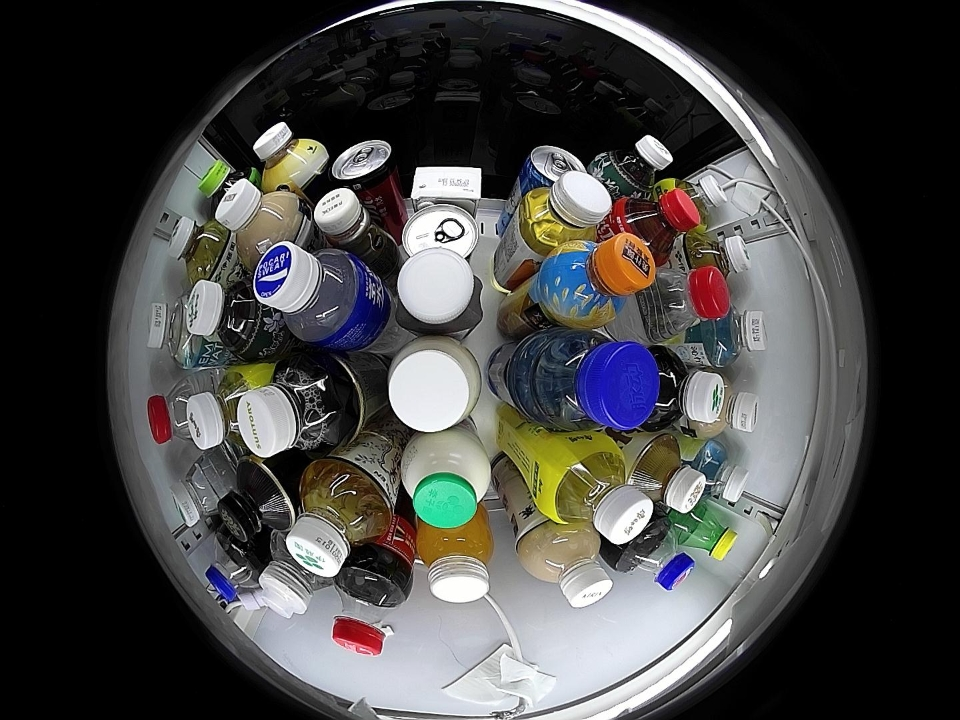asamu: (253, 121, 325, 189)
baicha: (286, 459, 394, 578), (167, 217, 235, 282), (685, 232, 752, 282)
baishikele-2: (616, 518, 694, 592), (205, 535, 265, 602)
baokuangli: (253, 242, 373, 348)
binghongcha: (613, 187, 701, 261)
bingtangxueli: (540, 437, 654, 546), (188, 367, 261, 452), (670, 174, 726, 229)
chapai2: (519, 171, 612, 256)
damaicha: (643, 347, 726, 431)
guolicheng: (543, 233, 656, 328)
jianjiao: (258, 537, 329, 619)
jindian: (410, 166, 484, 209)
kafei: (313, 188, 393, 265)
kele-b: (332, 566, 411, 657)
lingdukele: (331, 140, 399, 197)
liziyuan: (400, 429, 492, 529)
maidong: (532, 332, 658, 431)
moliqingcha: (186, 280, 274, 360), (599, 135, 673, 199)
nongfushanquan: (647, 267, 730, 341), (147, 375, 202, 445)
qingdaowangzi-2: (520, 145, 588, 189)
qinningshui: (149, 296, 208, 368), (702, 305, 768, 367), (690, 440, 750, 505)
rancha-1: (216, 459, 297, 543)
rancha-2: (626, 433, 707, 515)
weic: (416, 514, 494, 604)
wuhounaicha: (517, 522, 613, 608), (215, 179, 303, 262), (693, 372, 761, 437)
wulongcha: (238, 358, 345, 458)
xuebi-b: (677, 505, 738, 563)
yezhi: (400, 203, 479, 259)
yibao: (169, 455, 232, 527)
yitengyuan: (196, 160, 255, 213)
yousuanru: (387, 336, 482, 432)
youyanggudong: (393, 249, 483, 336)
